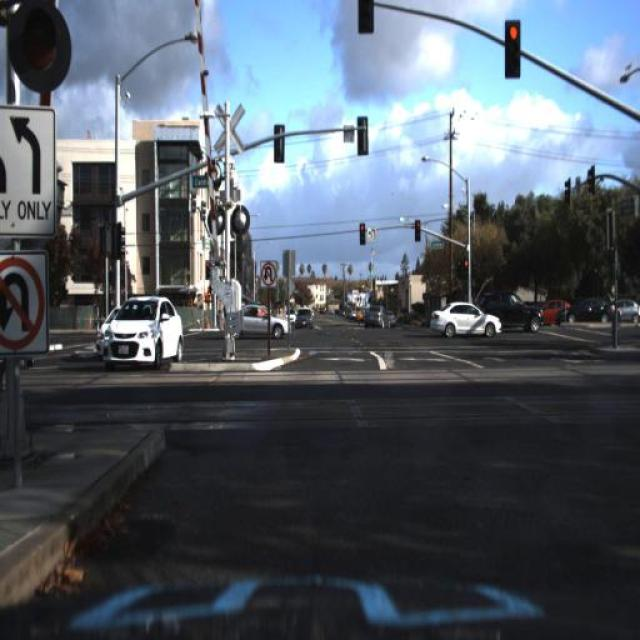car: (97, 294, 181, 374), (425, 296, 504, 344), (486, 286, 543, 330), (233, 300, 296, 338), (232, 303, 288, 337), (555, 298, 615, 328), (528, 298, 572, 326), (360, 302, 396, 326), (290, 300, 316, 332), (366, 302, 390, 334), (295, 305, 313, 329)
trafficLight-Green: (13, 2, 68, 86), (356, 1, 376, 34)
trafficLight-RedLeft: (503, 18, 522, 78), (412, 213, 423, 246), (462, 252, 471, 284), (358, 218, 367, 248), (414, 216, 420, 242)
